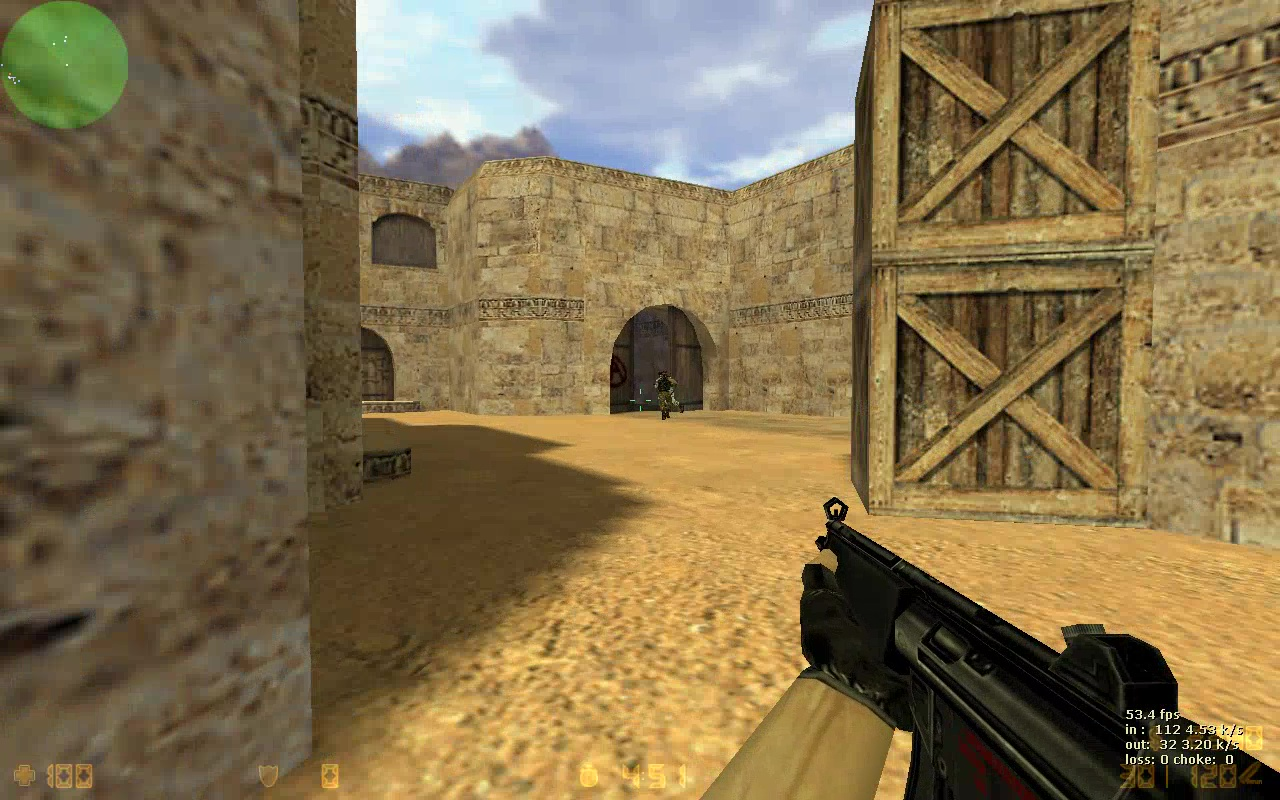terr1: (653, 372, 676, 419)
